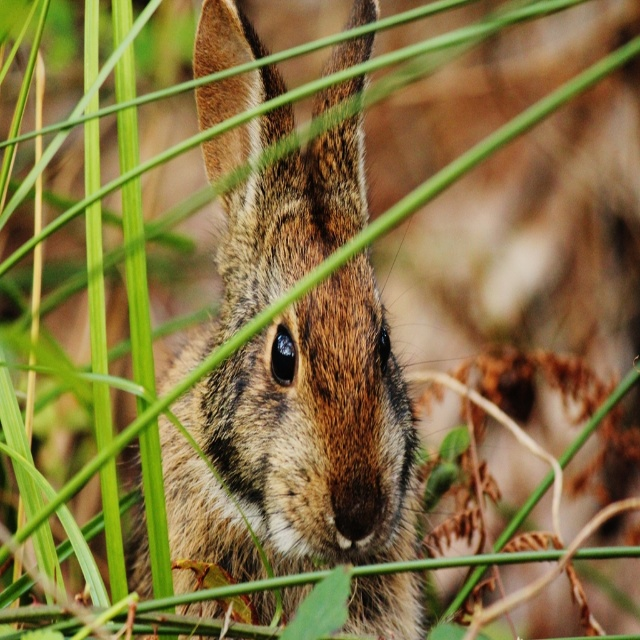Rabbit: (112, 0, 505, 640)
